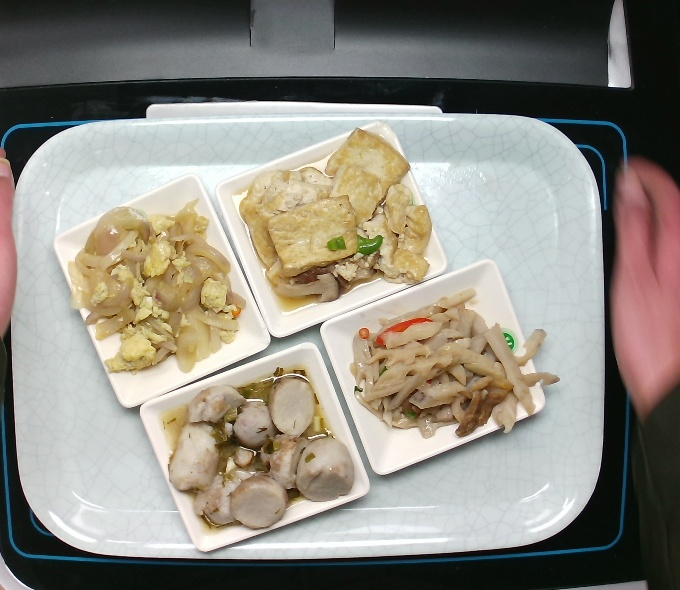wcq-JiaChangDouFu: (238, 124, 441, 312)
wcq-QingChaoOuPian: (343, 282, 563, 446)
wcq-YangCongChaoDan: (64, 191, 251, 381)
wcq-YangYu: (158, 363, 358, 534)
